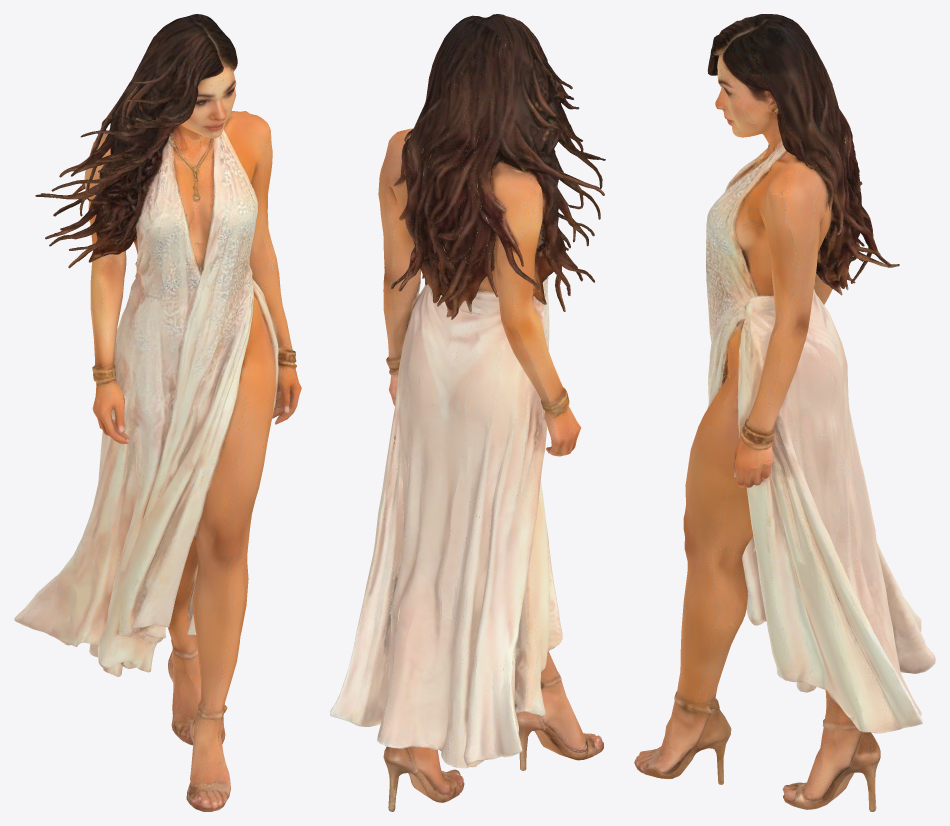
The model's file is SUP_woman_standing_v16.glb.
3 views of the same model, side by side, from view 1: azimuth 30°, elevation 25°; view 2: azimuth 150°, elevation 25°; view 3: azimuth 270°, elevation 25° (orthographic). The views are drawn at different scales.
Visible parts, largest first — view 1: SUP_woman_standing_v16; view 2: SUP_woman_standing_v16; view 3: SUP_woman_standing_v16.
Part boxes in pixels (x1,y1,x2,y2): SUP_woman_standing_v16: (14,14,301,811); SUP_woman_standing_v16: (330,14,605,811); SUP_woman_standing_v16: (634,14,935,811).
Bounding box in the file's own units: 0.3212 × 0.9997 × 0.3537.
Materials: 1 (1 with a texture image).
